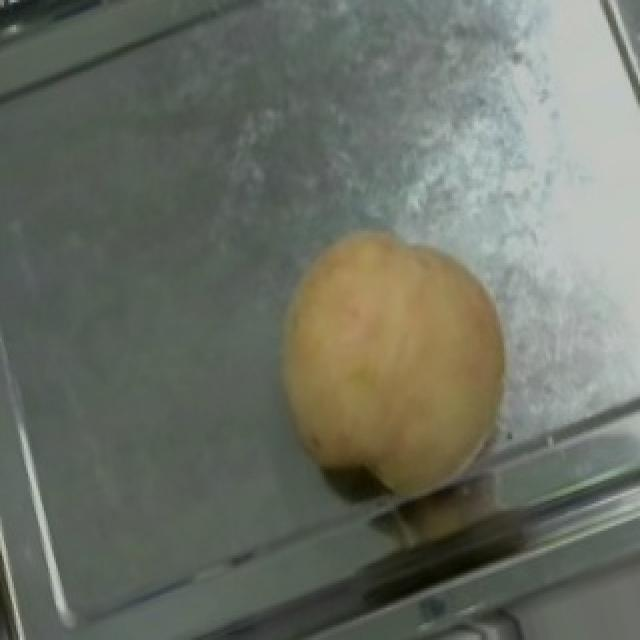Fruit: (232, 194, 556, 538)
